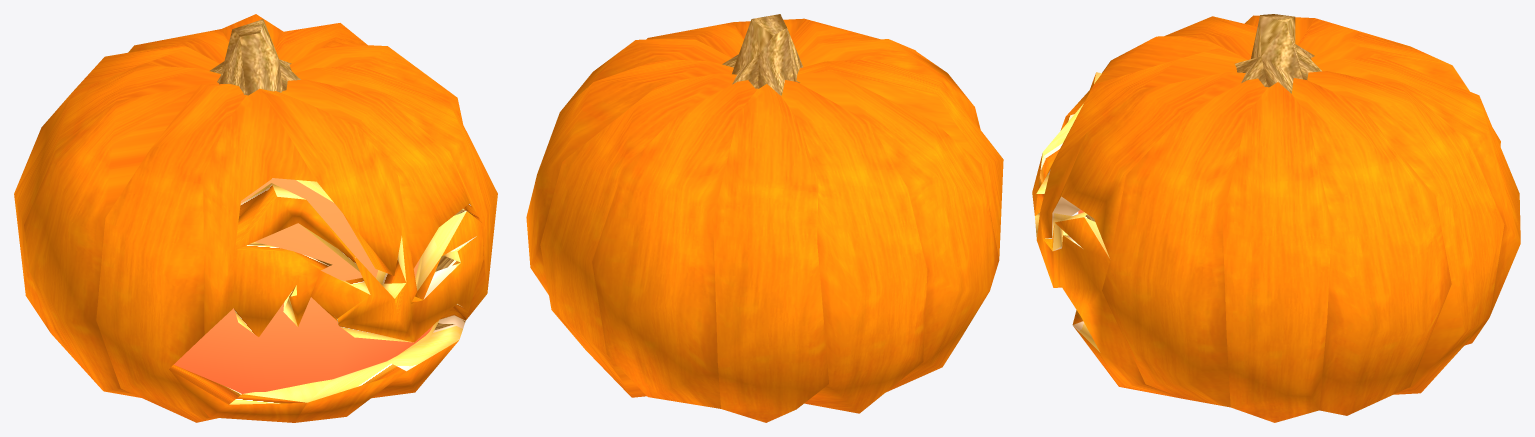
The model's file is DANDU_Nangua_Anim02.glb.
The picture shows the model from 3 angles, left to right: view 1: azimuth 30°, elevation 25°; view 2: azimuth 150°, elevation 25°; view 3: azimuth 270°, elevation 25°; orthographic projection.
Parts seen in each view (by area): view 1: 南瓜灯_04.007; view 2: 南瓜灯_04.007; view 3: 南瓜灯_04.007.
Boxes of the visible parts, x1,y1,x2,y2 form: 南瓜灯_04.007: [14, 14, 497, 422]; 南瓜灯_04.007: [526, 14, 1003, 422]; 南瓜灯_04.007: [1032, 14, 1520, 422].
Size of the model in its own units: 1.17 by 0.9796 by 1.2.
Materials: 2 (1 with a texture image).
